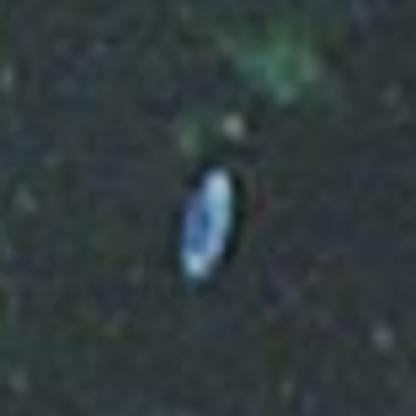ship: (162, 151, 247, 295)
